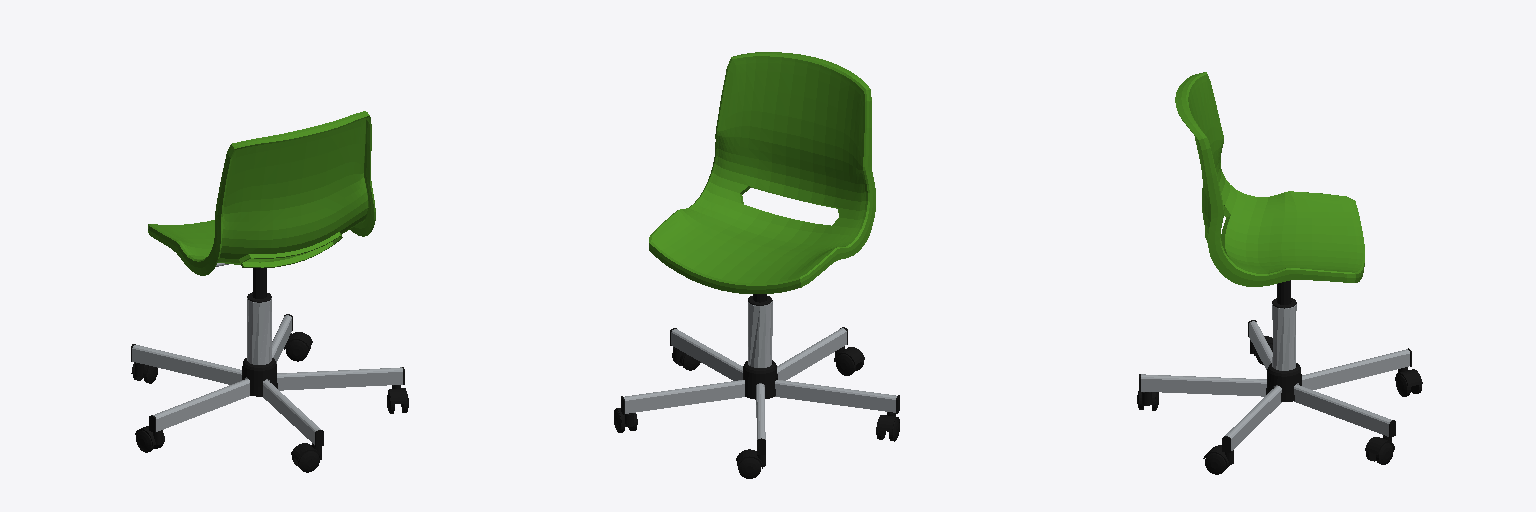
3 views of the same model, side by side, from view 1: azimuth 30°, elevation 25°; view 2: azimuth 150°, elevation 25°; view 3: azimuth 270°, elevation 25° (orthographic).
Parts seen in each view (by area): view 1: Mesh2 Group2 SNILLE_IKEA1 Model, Mesh8 Group6 SNILLE_IKEA1 Model, Mesh7 Group5 SNILLE_IKEA1 Model, Mesh1 Group1 SNILLE_IKEA1 Model, Mesh3 Group3 SNILLE_IKEA1 Model; view 2: Mesh2 Group2 SNILLE_IKEA1 Model, Mesh8 Group6 SNILLE_IKEA1 Model, Mesh7 Group5 SNILLE_IKEA1 Model, Mesh1 Group1 SNILLE_IKEA1 Model; view 3: Mesh2 Group2 SNILLE_IKEA1 Model, Mesh8 Group6 SNILLE_IKEA1 Model, Mesh7 Group5 SNILLE_IKEA1 Model, Mesh1 Group1 SNILLE_IKEA1 Model.
Boxes of the visible parts, <box> form: Mesh2 Group2 SNILLE_IKEA1 Model: <box>148,111,375,275</box>; Mesh8 Group6 SNILLE_IKEA1 Model: <box>131,314,404,446</box>; Mesh7 Group5 SNILLE_IKEA1 Model: <box>247,298,271,364</box>; Mesh1 Group1 SNILLE_IKEA1 Model: <box>242,358,277,396</box>; Mesh3 Group3 SNILLE_IKEA1 Model: <box>247,268,271,302</box>; Mesh2 Group2 SNILLE_IKEA1 Model: <box>649,52,875,293</box>; Mesh8 Group6 SNILLE_IKEA1 Model: <box>621,327,899,454</box>; Mesh7 Group5 SNILLE_IKEA1 Model: <box>748,301,772,367</box>; Mesh1 Group1 SNILLE_IKEA1 Model: <box>743,360,777,399</box>; Mesh2 Group2 SNILLE_IKEA1 Model: <box>1175,72,1364,286</box>; Mesh8 Group6 SNILLE_IKEA1 Model: <box>1139,320,1411,452</box>; Mesh7 Group5 SNILLE_IKEA1 Model: <box>1272,304,1296,370</box>; Mesh1 Group1 SNILLE_IKEA1 Model: <box>1266,363,1301,401</box>.
Size of the model in its own units: 0.5901 by 0.7392 by 0.5939.